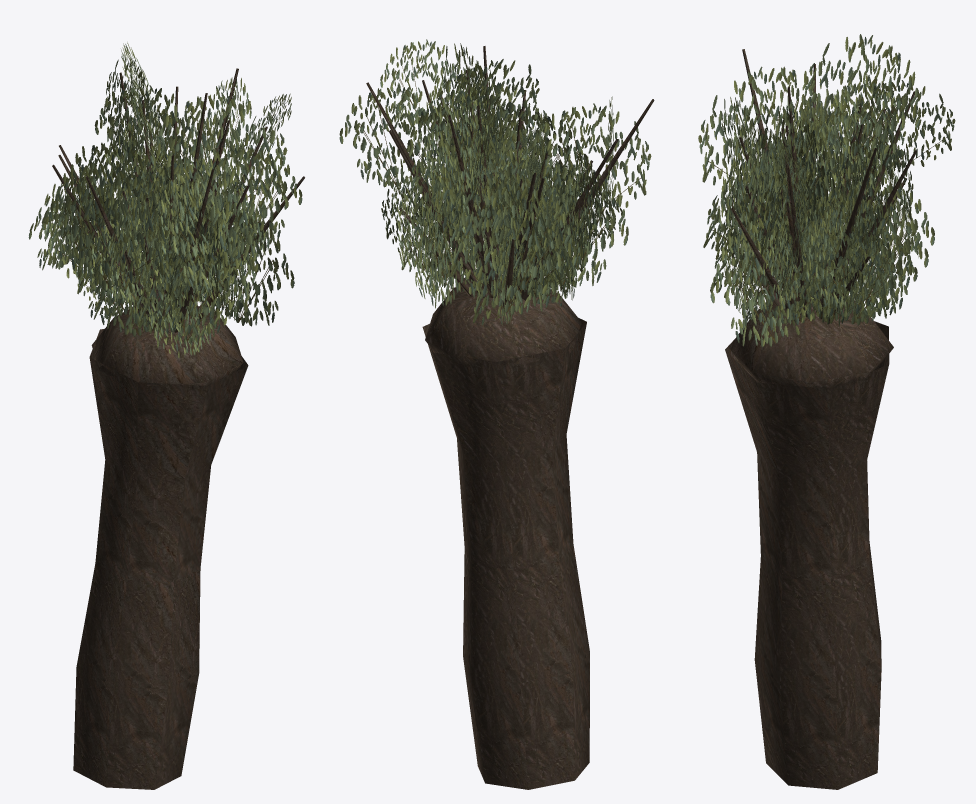
Rendered from tpl_pollards_late_meadow_pollard_cut_hi.glb.
3 views of the same model, side by side, from view 1: azimuth 30°, elevation 25°; view 2: azimuth 150°, elevation 25°; view 3: azimuth 270°, elevation 25° (orthographic). The views are drawn at different scales.
Visible parts, largest first — view 1: tpl_pollards_late_meadow_pollard_cut_hi; view 2: tpl_pollards_late_meadow_pollard_cut_hi; view 3: tpl_pollards_late_meadow_pollard_cut_hi.
Part boxes in pixels (x1,y1,x2,y2): tpl_pollards_late_meadow_pollard_cut_hi: [28, 42, 304, 789]; tpl_pollards_late_meadow_pollard_cut_hi: [339, 39, 654, 789]; tpl_pollards_late_meadow_pollard_cut_hi: [698, 34, 955, 789].
Bounding box in the file's own units: 1.56 × 4.3 × 1.45.
Materials: 2 (2 with a texture image).
